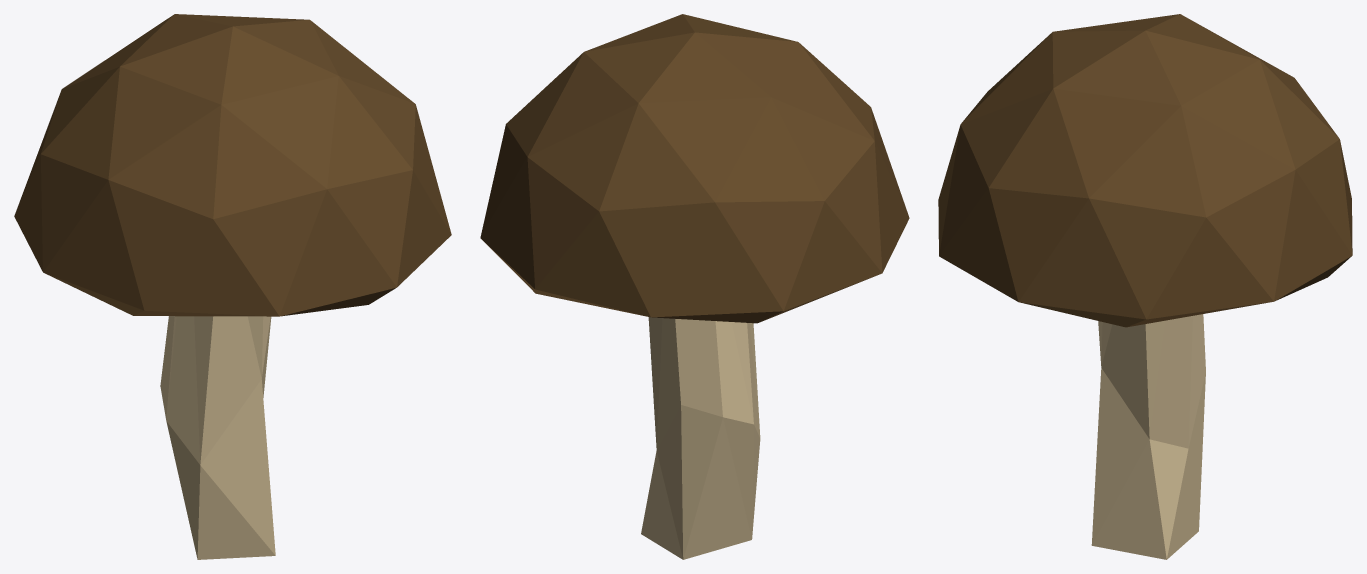
File: Mushroom_12.fbx
3 views of the same model, side by side, from view 1: azimuth 30°, elevation 25°; view 2: azimuth 150°, elevation 25°; view 3: azimuth 270°, elevation 25° (orthographic).
Visible parts, largest first — view 1: Mushroom_12; view 2: Mushroom_12; view 3: Mushroom_12.
Boxes of the visible parts, x1,y1,x2,y2 form: Mushroom_12: (14,14,451,559); Mushroom_12: (480,14,909,559); Mushroom_12: (938,14,1352,559).
Size of the model in its own units: 11.63 by 14.99 by 11.08.
